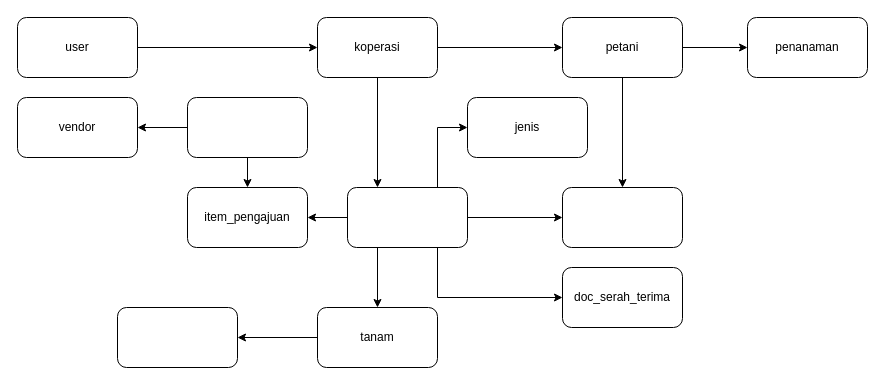
The diagram is 885 pixels wide and 385 high, and some of its shapes have lost their labels. The shapes that lost their labels are listed below. From the top down, each one's centre as x and y in pixels, then its label:
[247,127]: item
[407,217]: pengajuan
[622,217]: petani_pengajuan
[177,337]: hasil_panen
